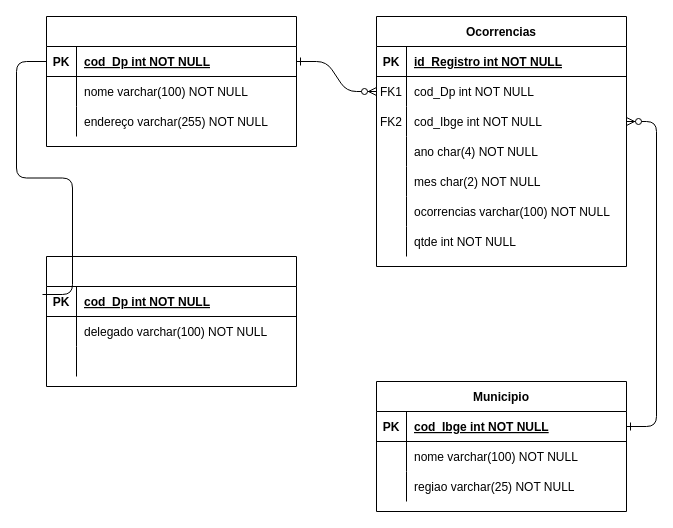
This 673x528 diagram has some shape labels left out. Here are the shapes that lost their labels. From the top down, the box of each, then its label:
(46, 16, 296, 146): DP
(46, 256, 296, 386): Responsavel
